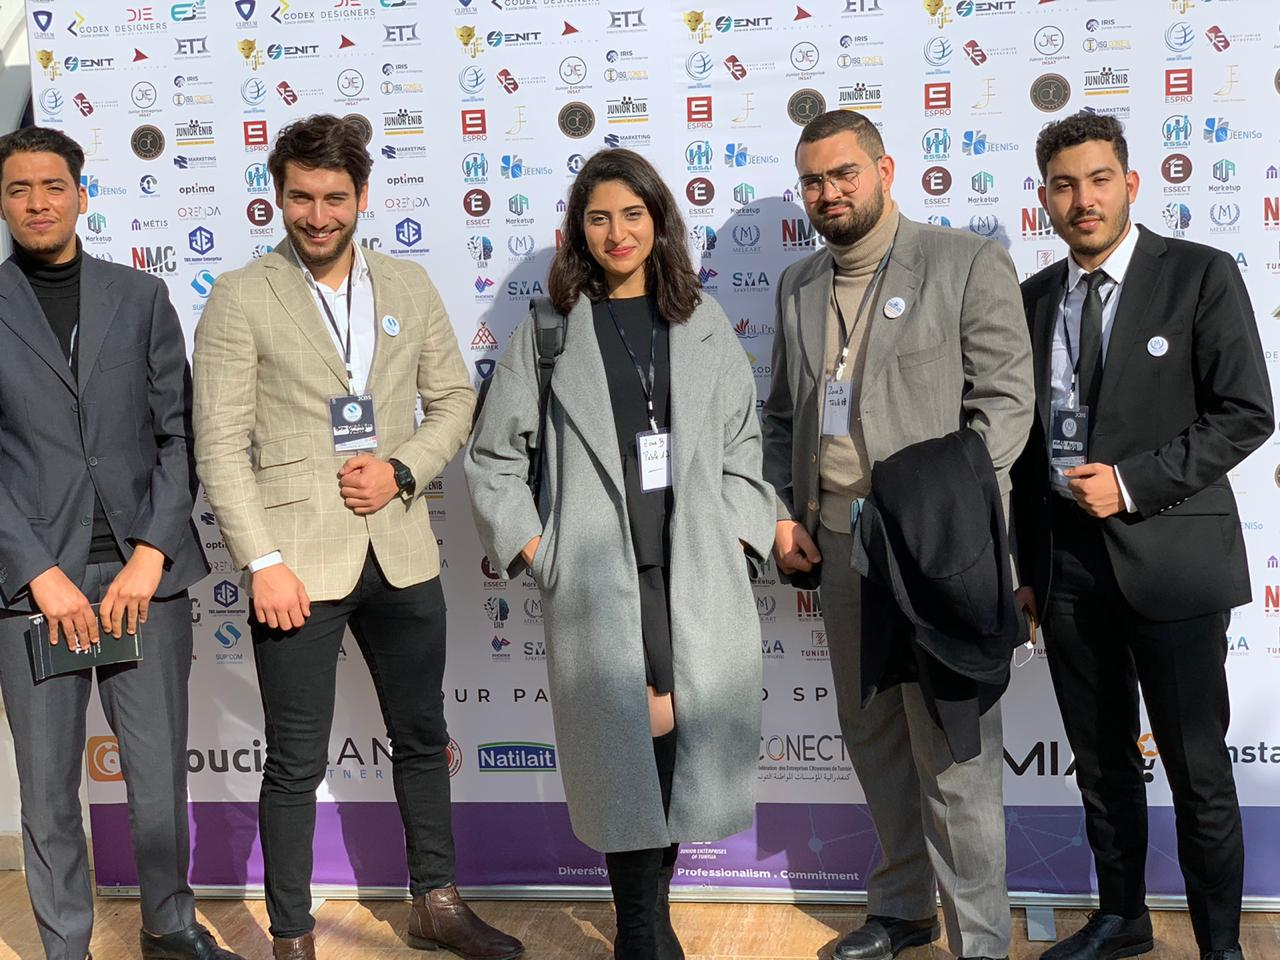without_mask: (1050, 166, 1125, 239), (798, 158, 873, 228), (1, 178, 80, 242), (284, 188, 356, 251), (586, 203, 654, 261)
